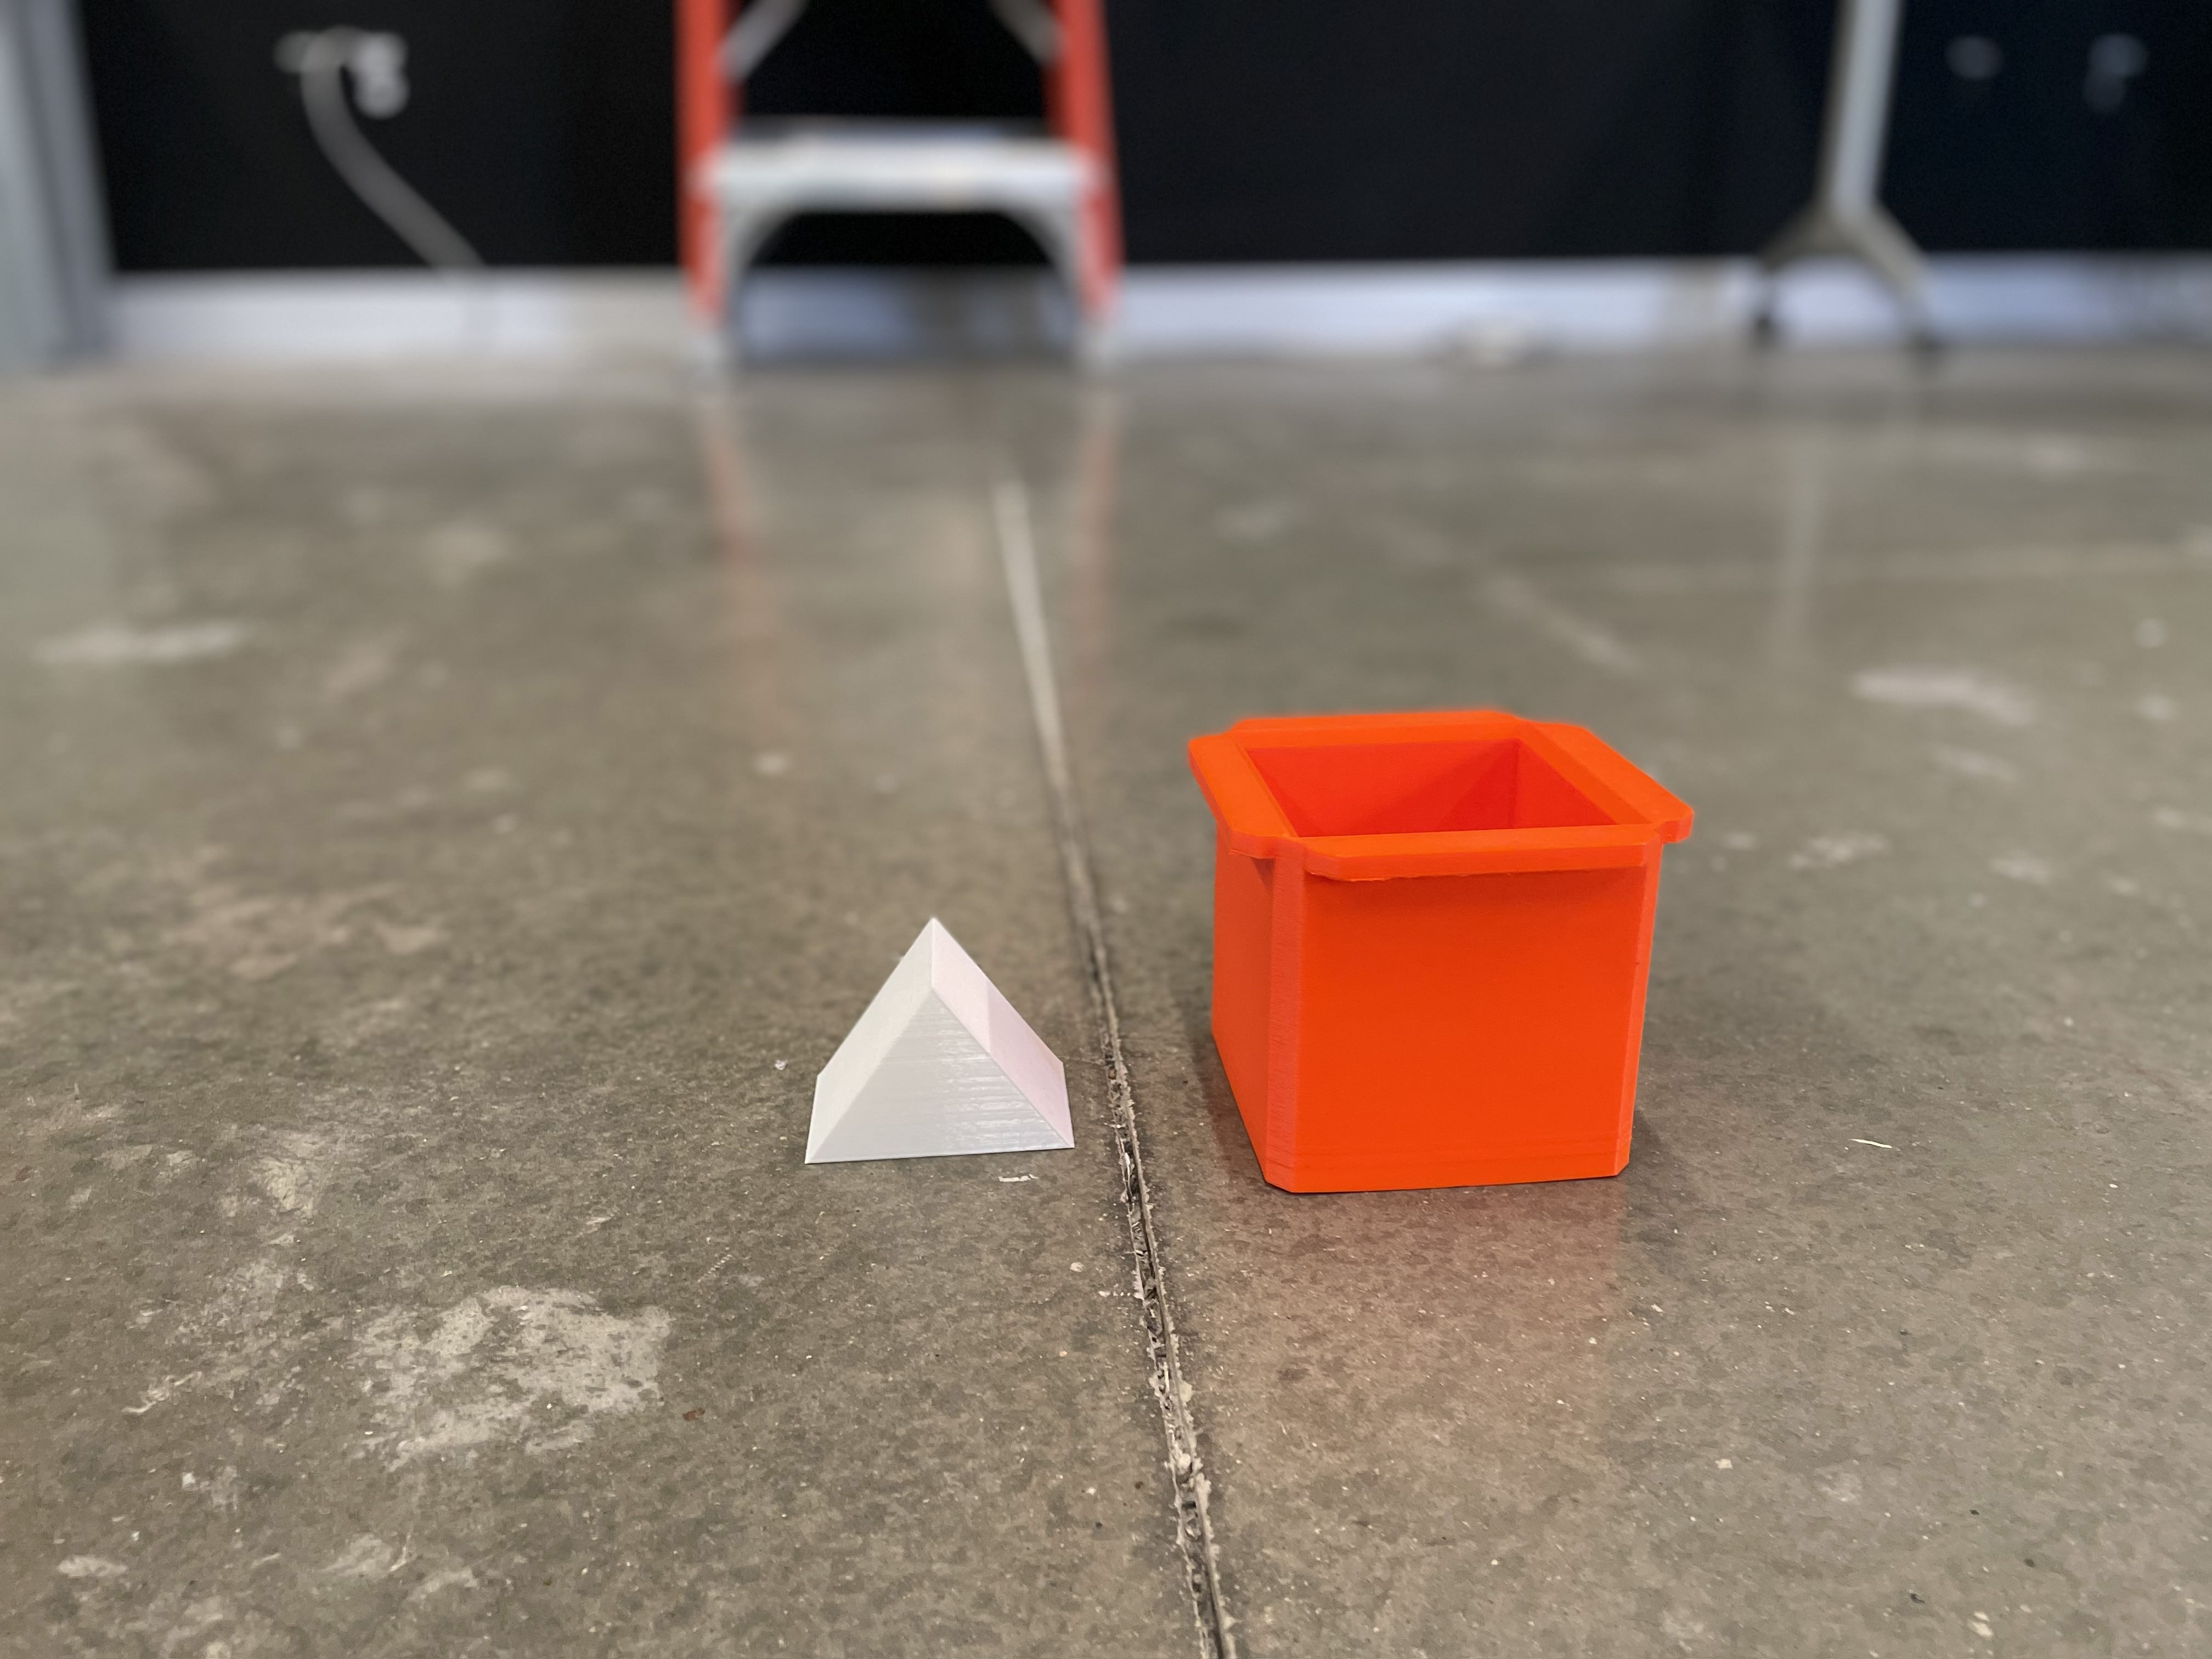payload1: (1170, 704, 1703, 1220)
payload2: (784, 903, 1101, 1192)
